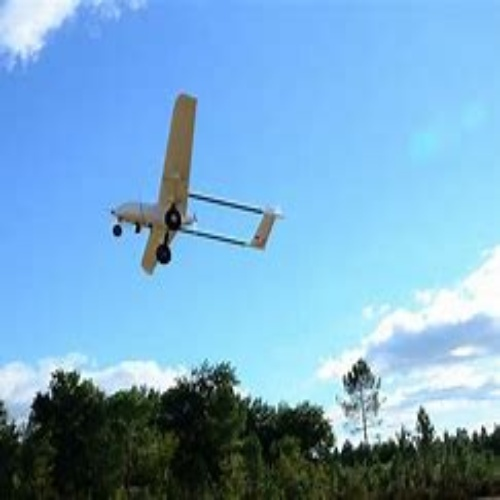uav80: (108, 94, 286, 275)
